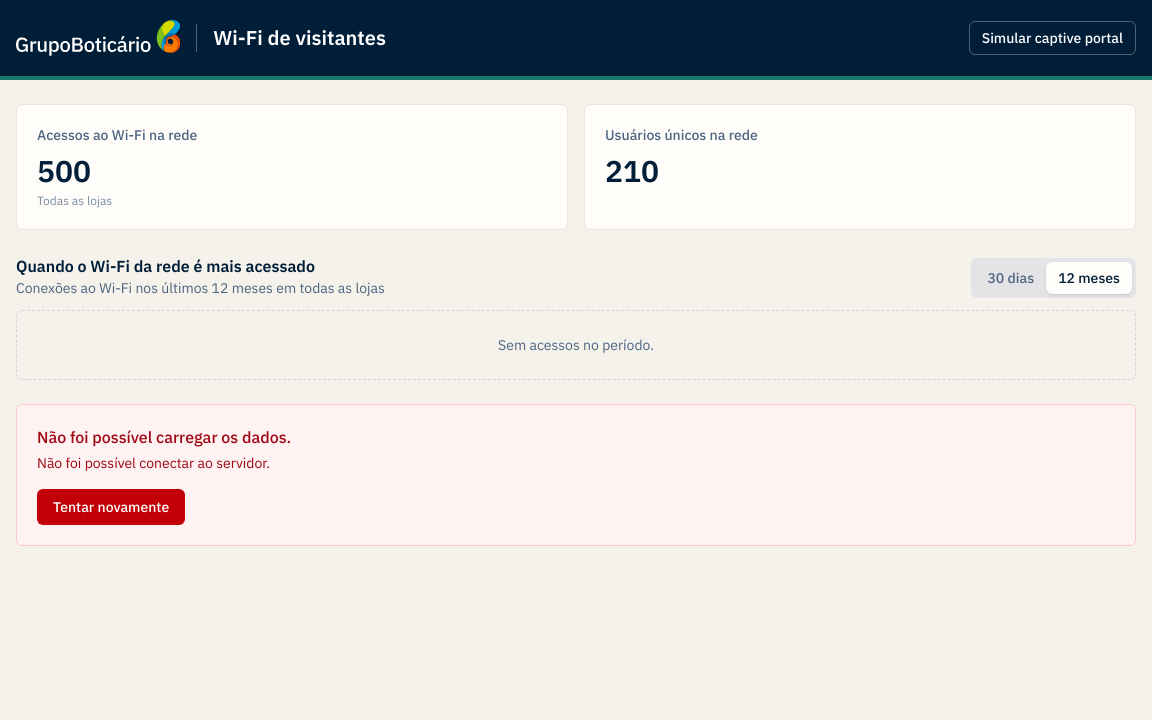
Test: DashboardPage: grade de lojas › mostra erro e tenta de novo quando o usuário pede
Check: the message shows "Não foi possível conectar ao servidor.", box [37, 454, 270, 472]
Click the button "Tentar novamente": (111, 507) [37, 489, 185, 525]
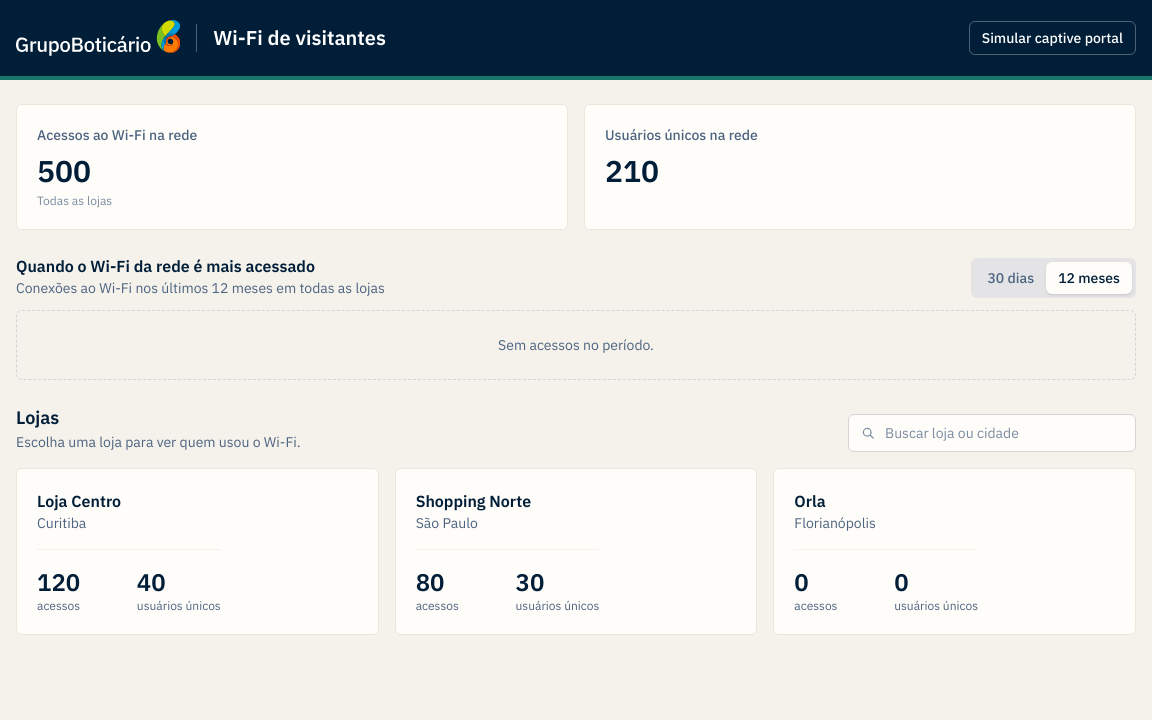
Check: the button "Loja Centro Curitiba 120 acessos 40 usuários únicos" is shown, box [16, 468, 379, 635]
Check: the message is gone
